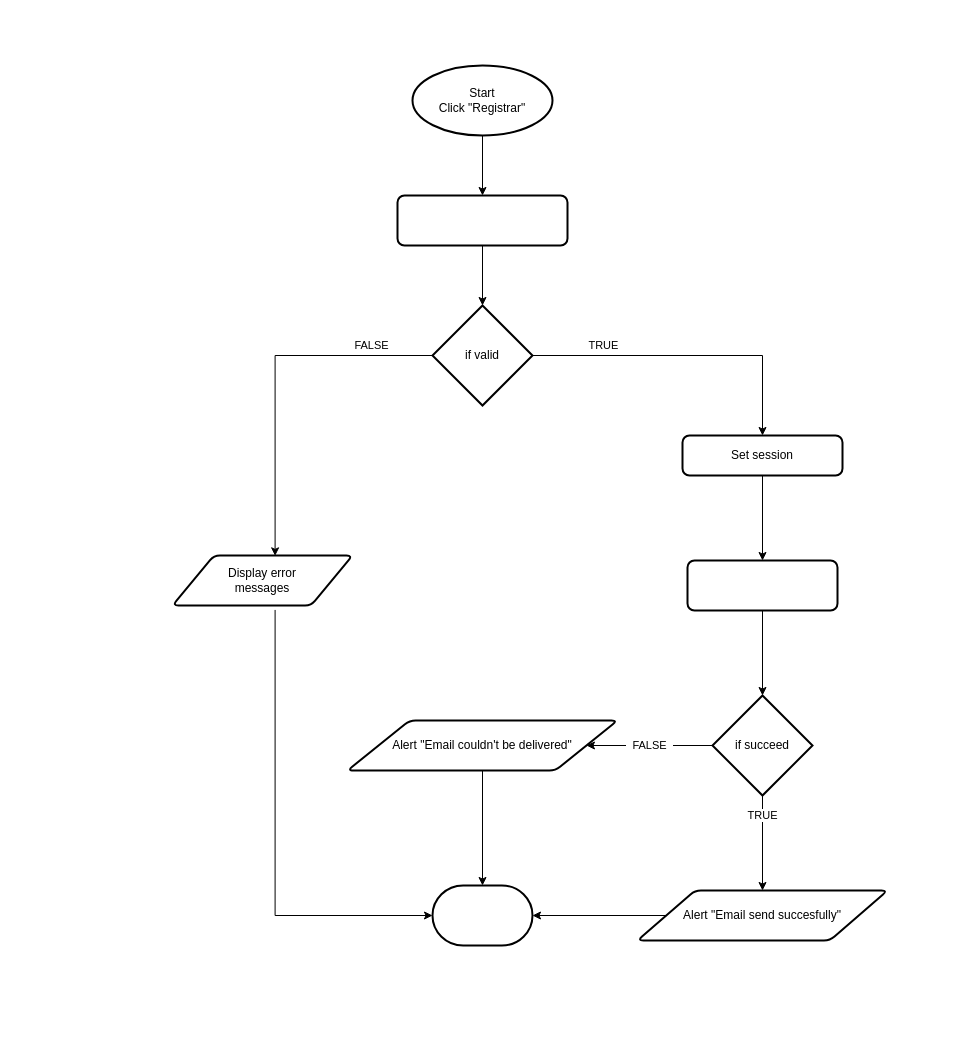
Image size: 965x1053. Some labels were removed from this diagram. Here are the shapes that lost their labels. From the top down, the centre of each, then its label:
point (482, 220): Check register info
point (762, 585): Send verification email
point (482, 915): End
